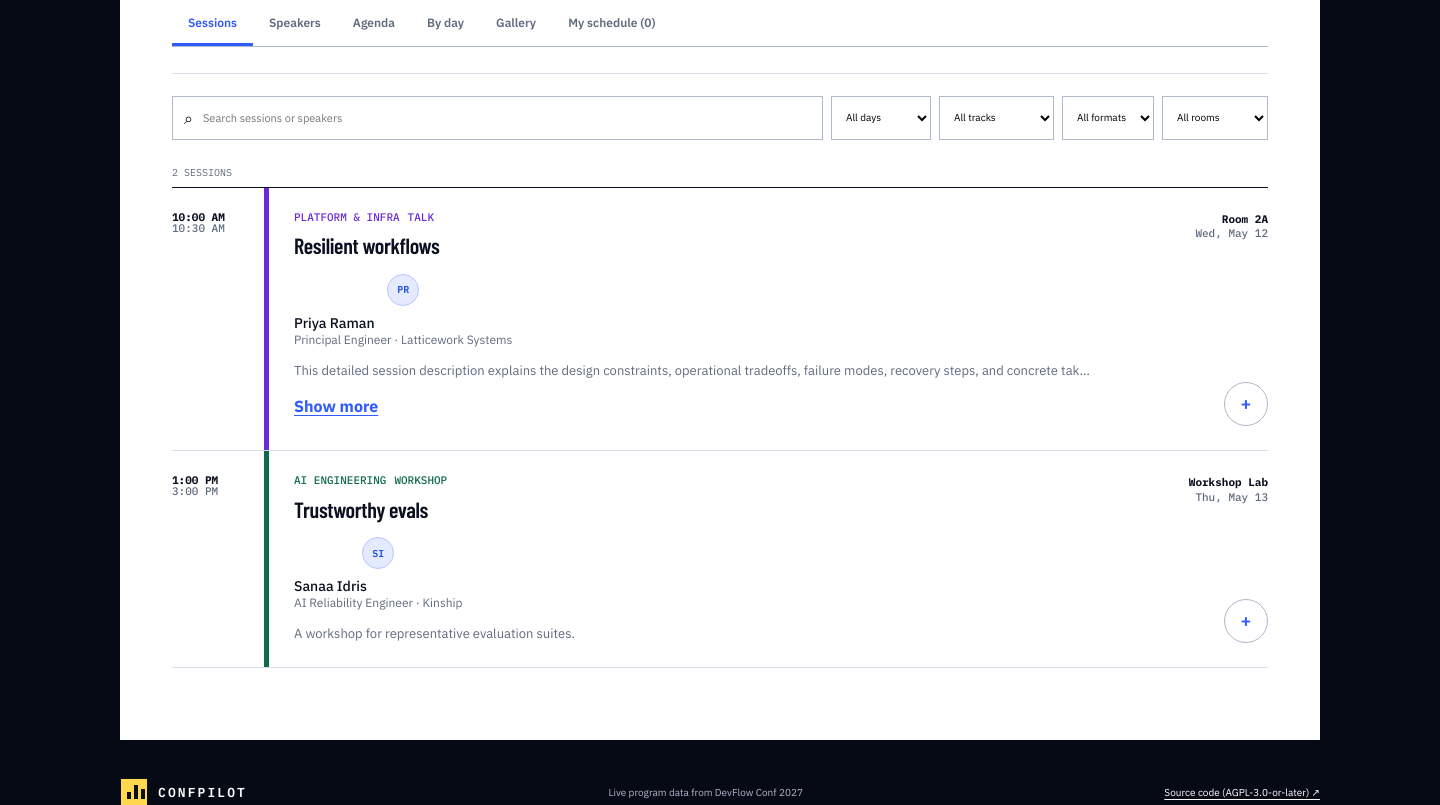
Scenario: expands a bounded session description in place
(page scrolled)
Click the button named "Show more description for Resilient workflows" at x=336, y=406, box x1=294 y1=384 x2=378 y2=428
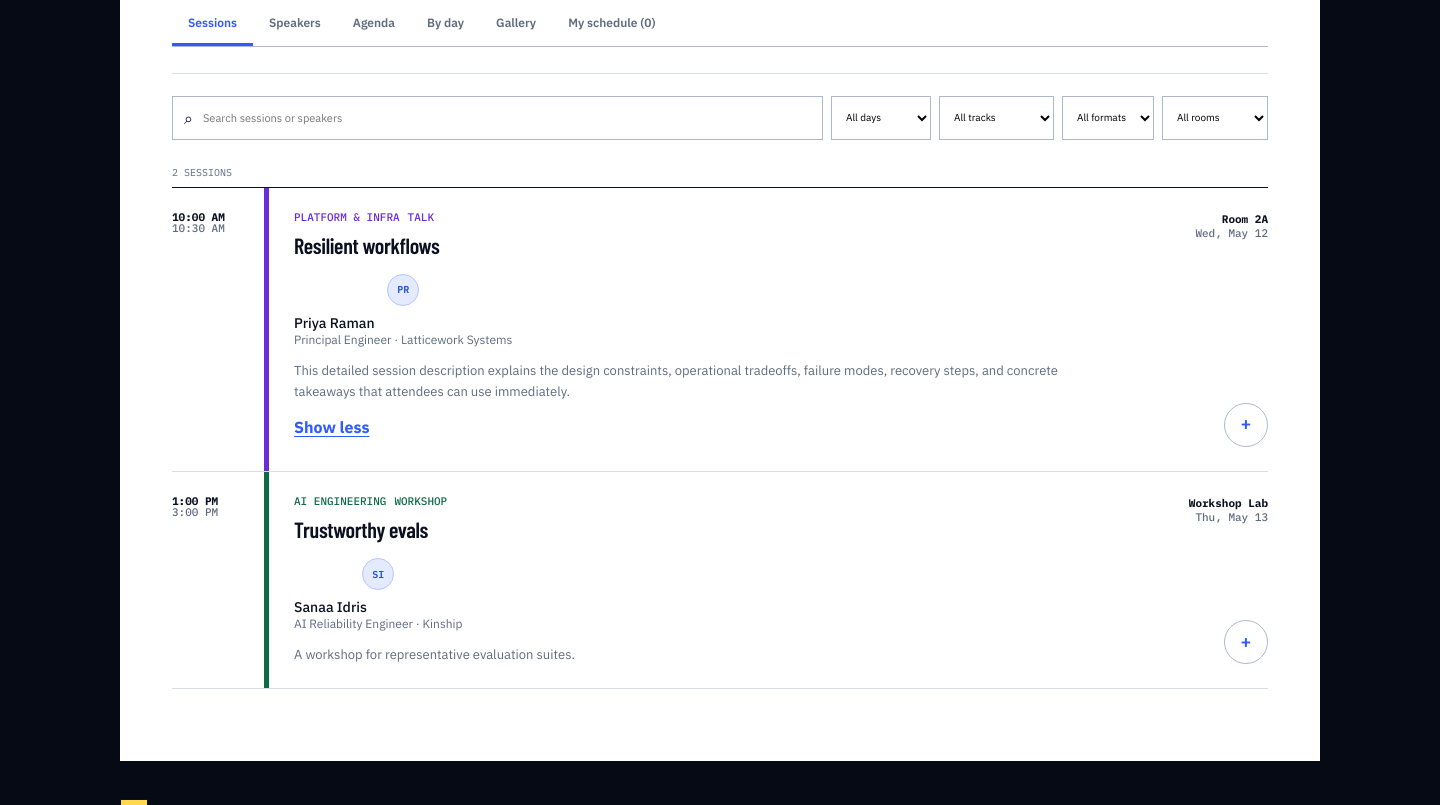
expect the text "This detailed session description explains the design constraints, operational tradeoffs, failure modes, recovery steps," is shown: met, box x1=294 y1=362 x2=1058 y2=400
expect the button named "Show less description for Resilient workflows" is expanded: met, box x1=294 y1=405 x2=370 y2=449
